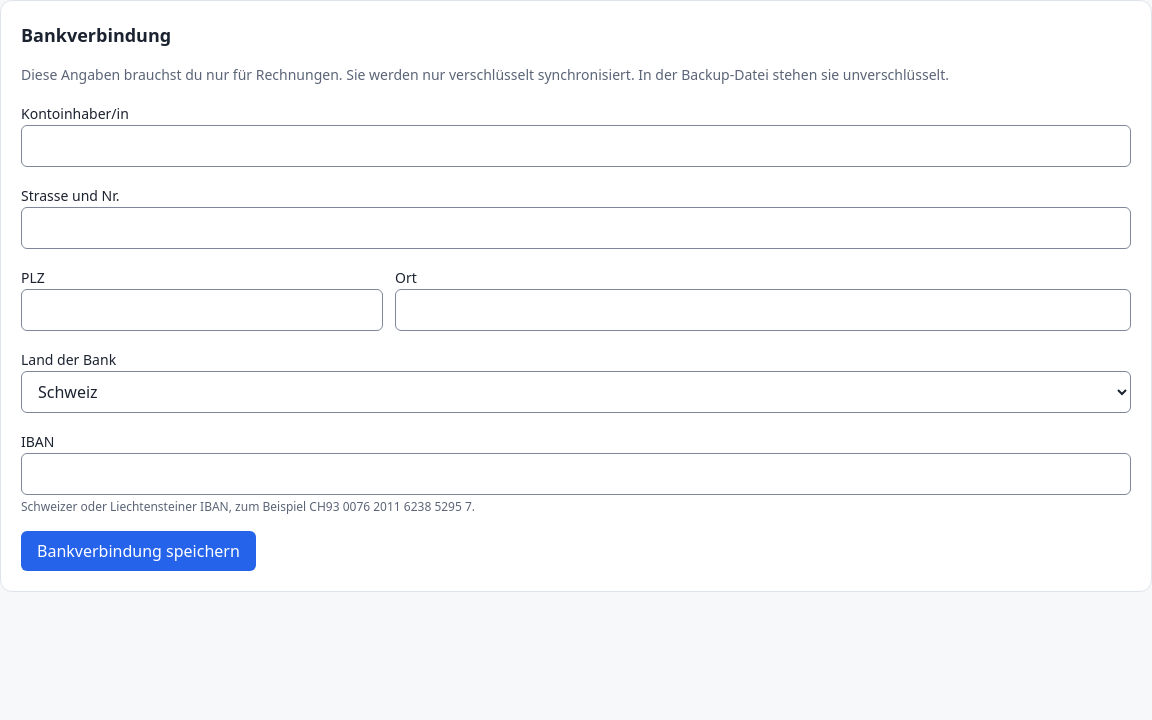
Bankverbindung in den Einstellungen (Issue #104) › AK-3: speichert die IBAN normalisiert und zeigt sie in Vierergruppen
Expected: the field labelled "IBAN" is shown, 21,453 -> 1131,495
Type "Anna Muster" into the field labelled "Kontoinhaber/in".
click(576, 146); type("Anna Muster")  # box 21,125 -> 1131,167
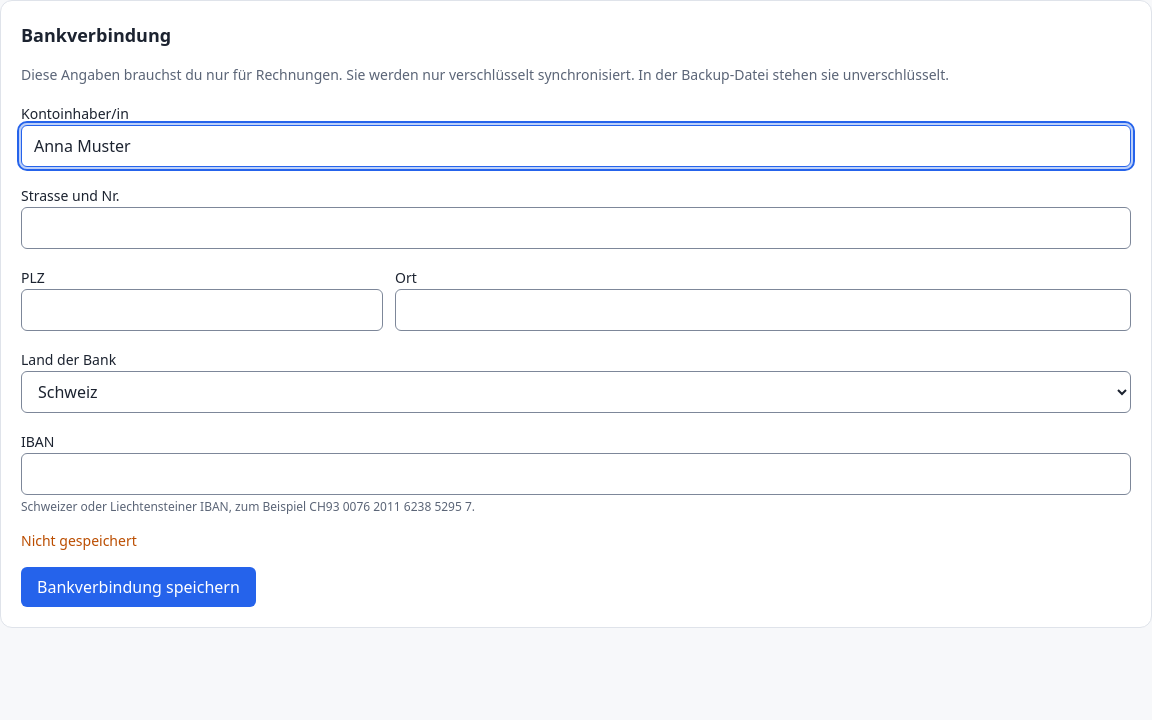
Type "Seestrasse 12" into the field labelled "Strasse und Nr.".
click(576, 228); type("Seestrasse 12")  # box 21,207 -> 1131,249
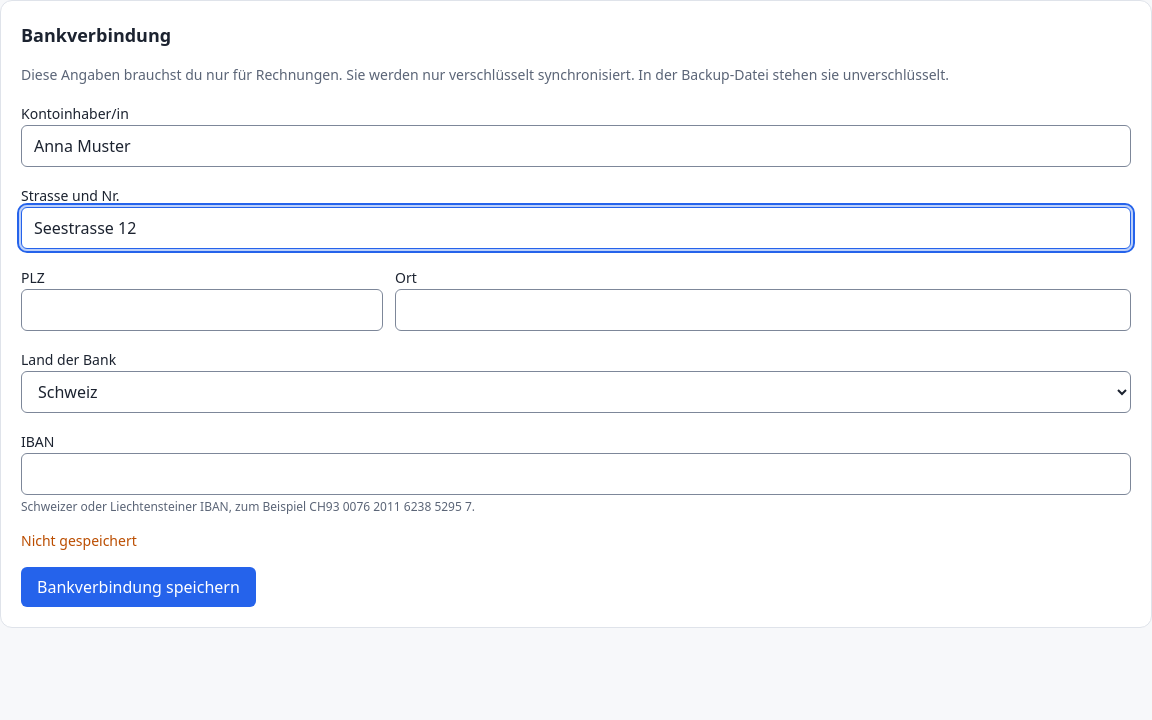
Type "8000" into the field labelled "PLZ".
click(202, 310); type("8000")  # box 21,289 -> 383,331
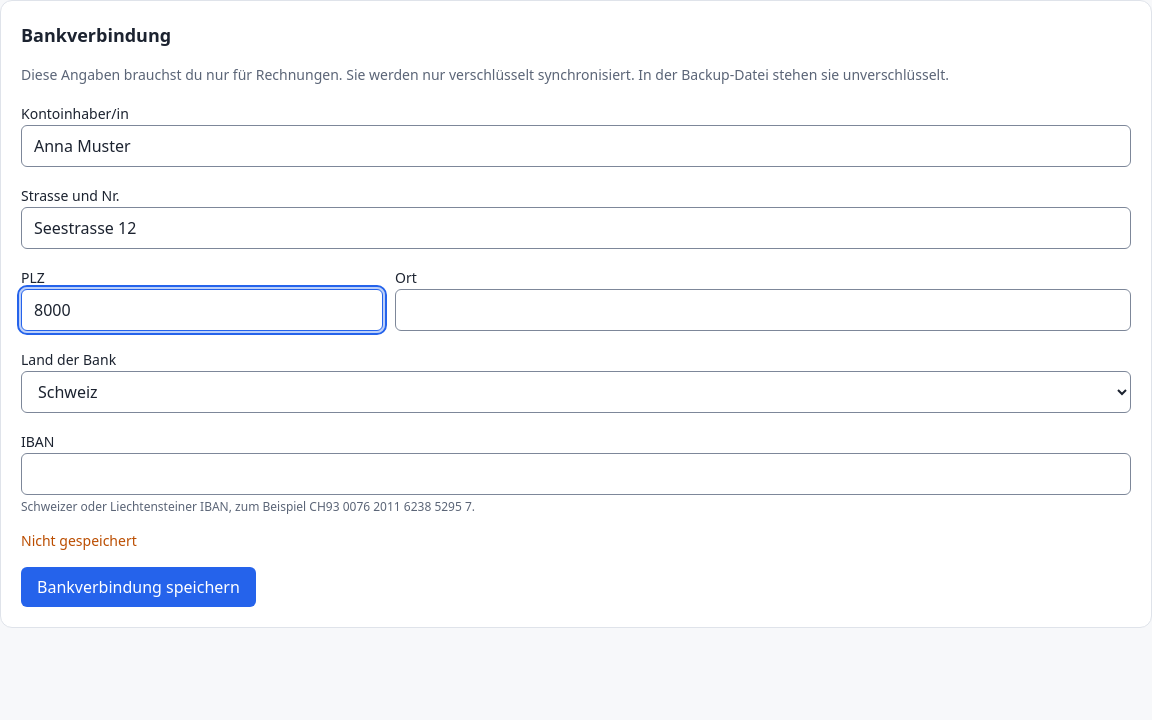
Type "Zürich" into the field labelled "Ort".
click(763, 310); type("Zürich")  # box 395,289 -> 1131,331
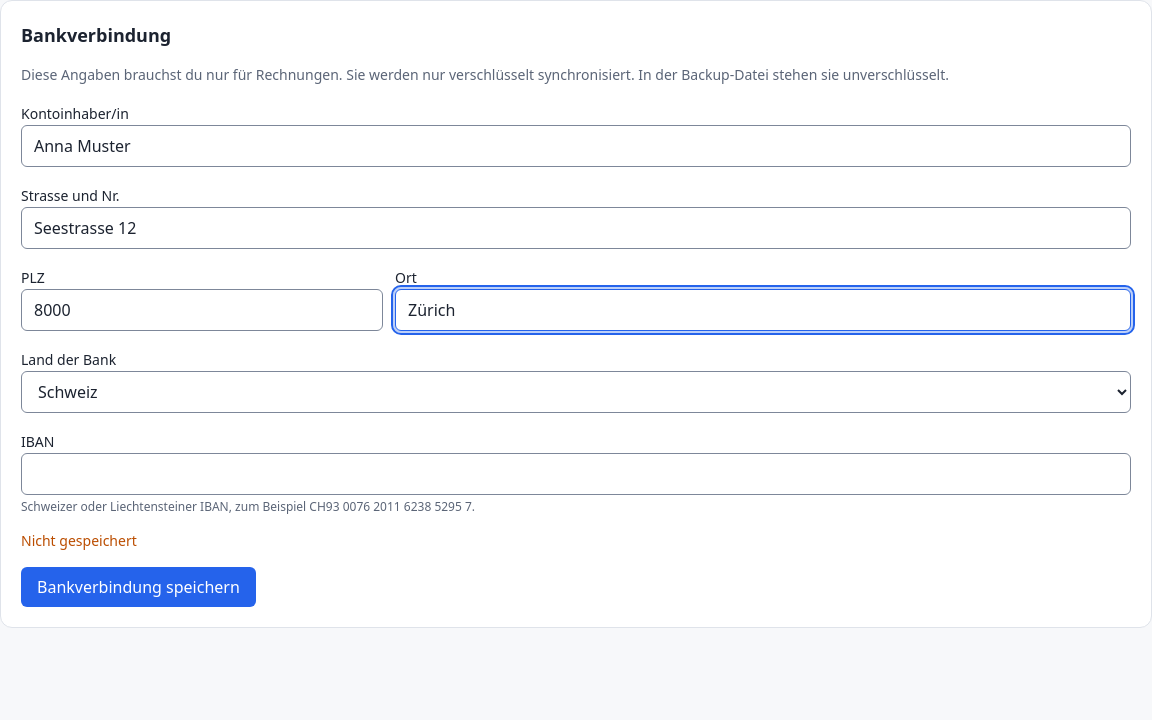
Type "ch93 0076 2011 6238 5295 7" into the field labelled "IBAN".
click(576, 474); type("ch93 0076 2011 6238 5295 7")  # box 21,453 -> 1131,495
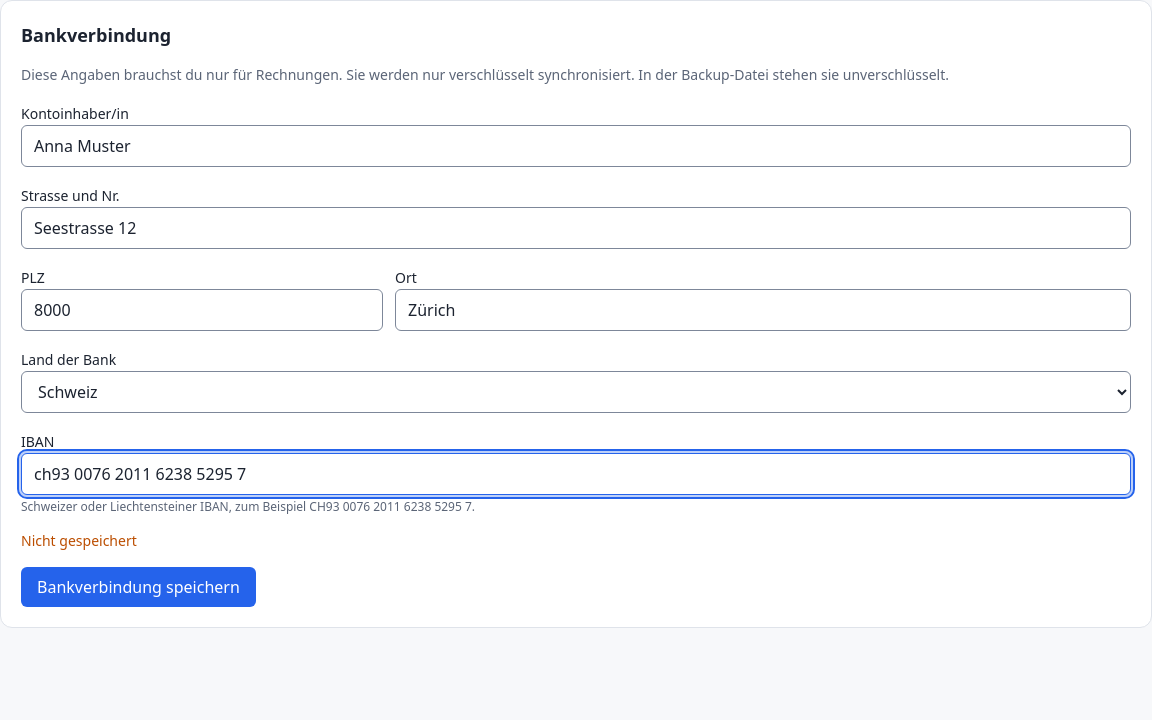
Click the button "Bankverbindung speichern".
click(138, 587)  # box 21,567 -> 256,607
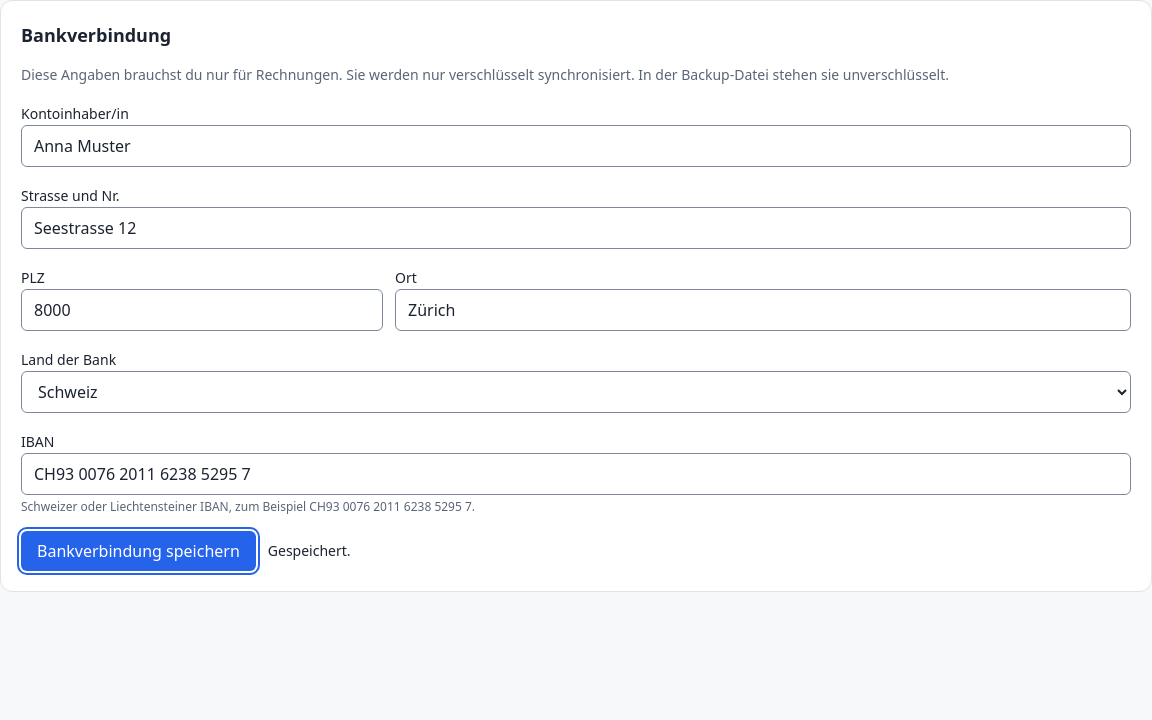
Expected: the message shows "Gespeichert", 268,541 -> 351,560
